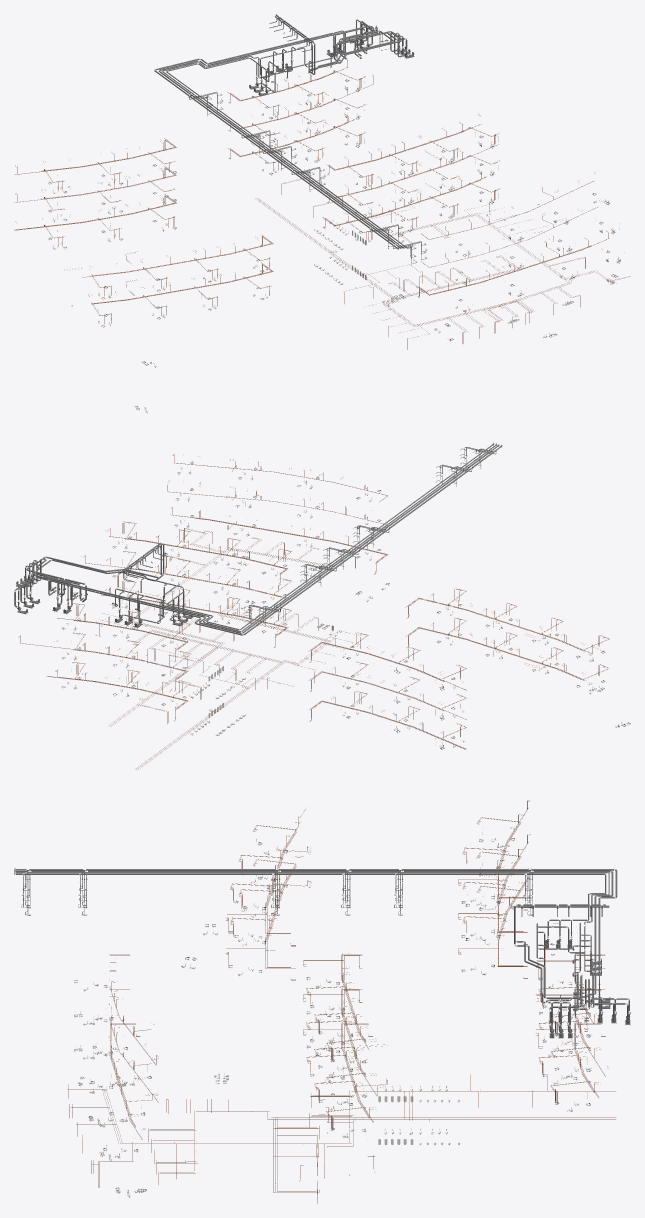
Rendered from piping.glb.
The picture shows the model from 3 angles, top to bottom: view 1: azimuth 30°, elevation 25°; view 2: azimuth 150°, elevation 25°; view 3: azimuth 270°, elevation 25°; orthographic projection. The views are drawn at different scales.
Parts seen in each view (by area): view 1: pipe_jacket, copper, porcelain, pipe_steel, chrome; view 2: pipe_jacket, copper, porcelain, pipe_steel, chrome; view 3: pipe_jacket, copper, porcelain, pipe_steel, chrome.
Boxes of the visible parts, x1,y1,x2,y2 form: pipe_jacket: (14, 19, 609, 349); copper: (15, 70, 629, 333); porcelain: (53, 81, 620, 413); pipe_steel: (269, 14, 414, 74); chrome: (48, 79, 620, 410); pipe_jacket: (14, 443, 600, 769); copper: (47, 518, 609, 749); porcelain: (66, 467, 624, 748); pipe_steel: (16, 542, 168, 602); chrome: (61, 461, 630, 749); pipe_jacket: (14, 800, 630, 1203); copper: (67, 817, 615, 1187); porcelain: (75, 832, 587, 1197); pipe_steel: (514, 904, 609, 1038); chrome: (74, 838, 590, 1193).
Size of the model in its own units: 89.06 by 34.74 by 79.61.
